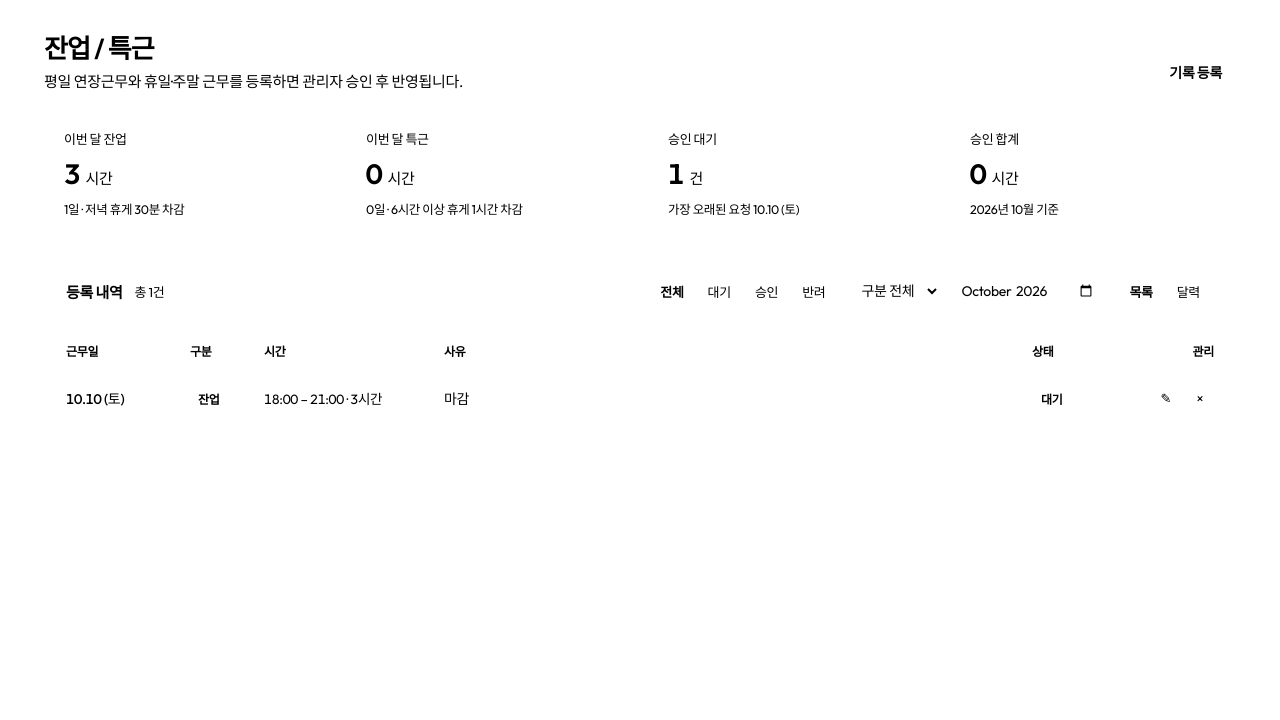
Scenario: OvertimeRecordsPage — 승인된 기록 수정 › 대기 중인 기록은 묻지 않고 바로 연다
Expected: the text "마감" is shown, [444,390,469,408]
Click the button named "수정" at (1166, 398), box [1152,384,1180,412]
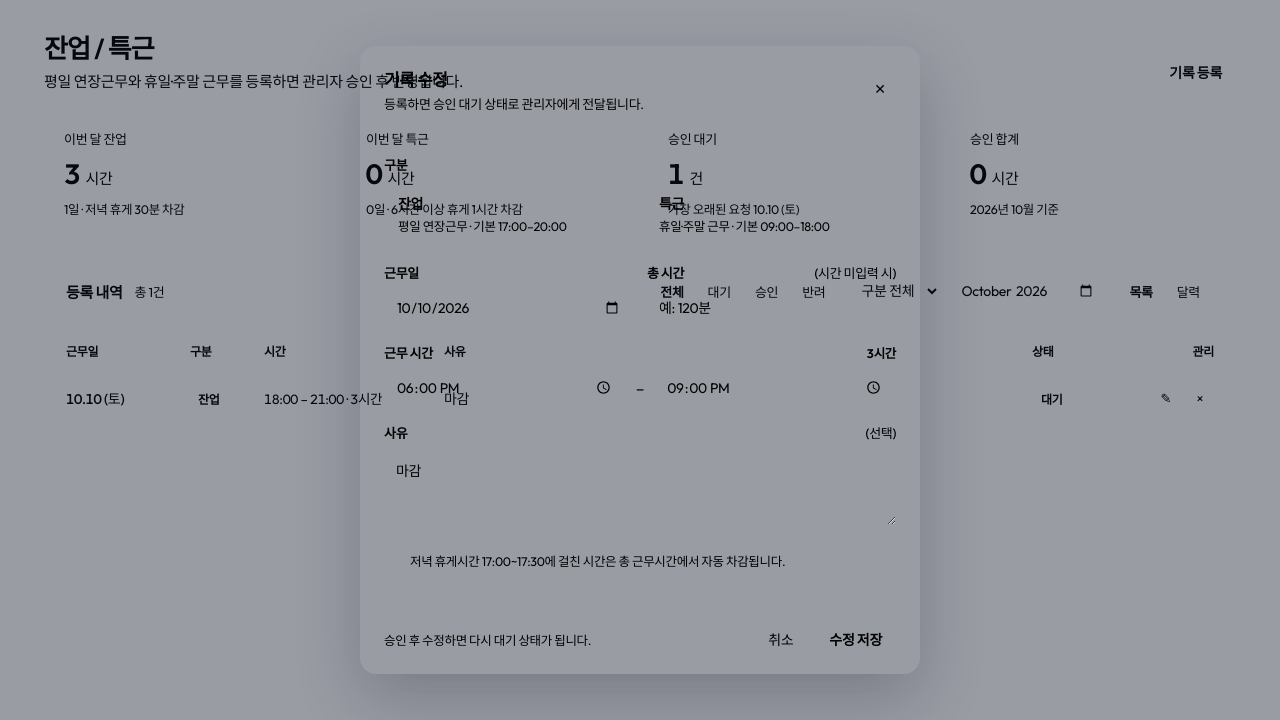
Result: the date field labelled "근무일" is shown at [384,289,633,327]
